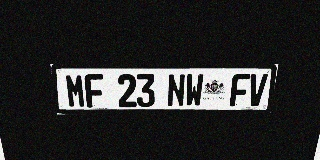2: (117, 74, 136, 107)
3: (136, 74, 155, 107)
F: (84, 74, 105, 107), (230, 74, 250, 106)
M: (65, 74, 86, 108)
N: (167, 74, 186, 107)
V: (247, 74, 268, 106)
W: (185, 74, 204, 107)
